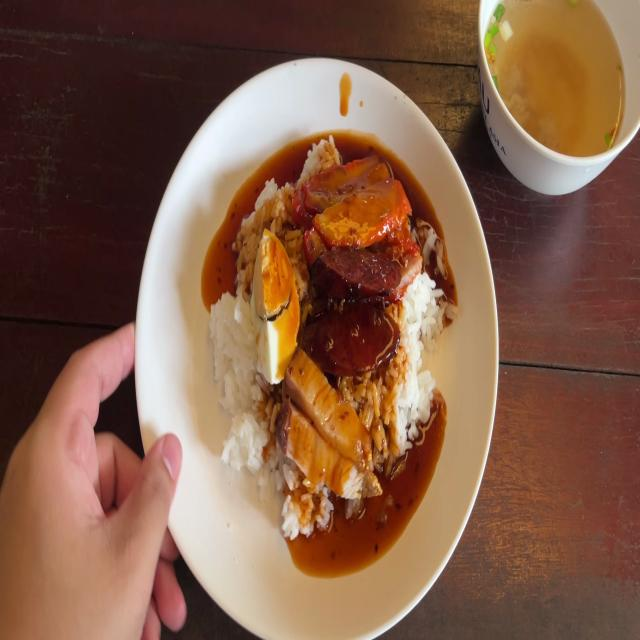01boiled_egg: (252, 228, 294, 388)
01chainese_sausage: (303, 245, 403, 373), (296, 300, 403, 378), (308, 251, 402, 298)
01crispy_pork: (286, 352, 378, 497), (291, 356, 372, 459), (289, 417, 372, 487)
01red_pork: (296, 148, 411, 250), (310, 179, 408, 249), (297, 155, 373, 220)
01red_pork_and_crispy_pork: (207, 135, 451, 538)
01rice: (386, 274, 450, 451), (212, 291, 253, 478), (286, 478, 318, 536), (266, 174, 296, 234), (349, 384, 398, 418), (242, 211, 254, 280)
